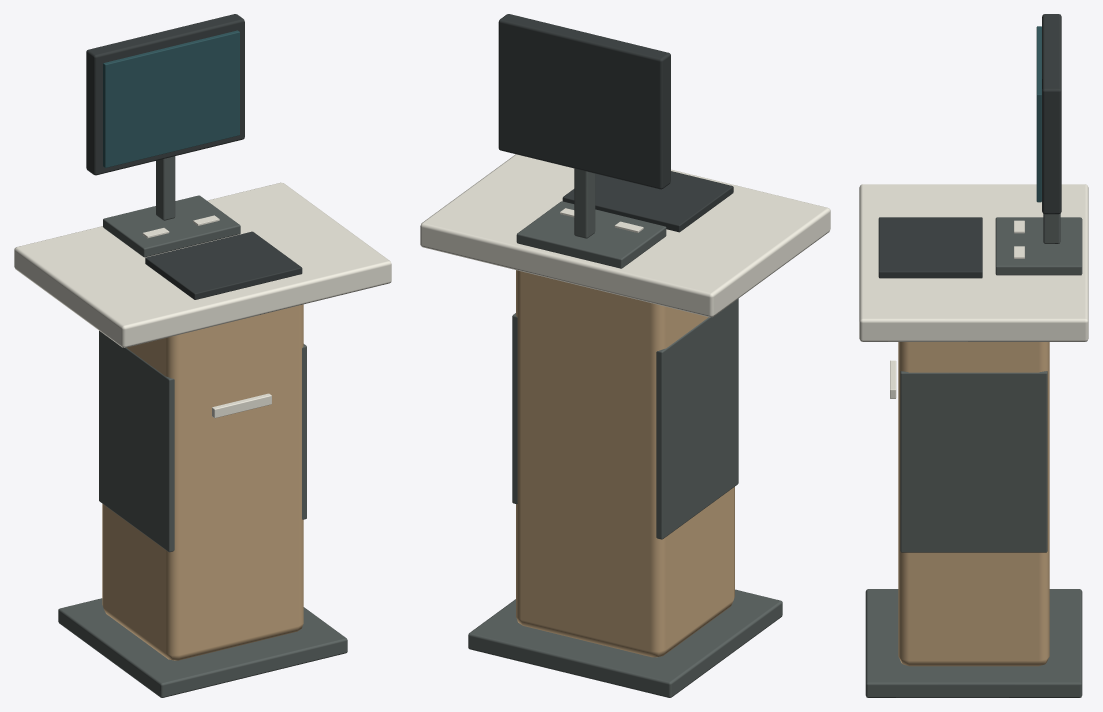
Rendered from public-library-and-reading-garden-public-library-and-r-5b84127d__30904.glb.
3 views of the same model, side by side, from view 1: azimuth 30°, elevation 25°; view 2: azimuth 150°, elevation 25°; view 3: azimuth 270°, elevation 25° (orthographic). The views are drawn at different scales.
Visible parts, largest first — view 1: public-library-and-reading-garden-self-checkout-kiosk; view 2: public-library-and-reading-garden-self-checkout-kiosk; view 3: public-library-and-reading-garden-self-checkout-kiosk.
Boxes of the visible parts, left/top/right/bottom form: public-library-and-reading-garden-self-checkout-kiosk: left=14, top=14, right=391, bottom=697; public-library-and-reading-garden-self-checkout-kiosk: left=420, top=14, right=830, bottom=697; public-library-and-reading-garden-self-checkout-kiosk: left=859, top=14, right=1088, bottom=697.
Size of the model in its own units: 0.75 by 1.53 by 0.53.
